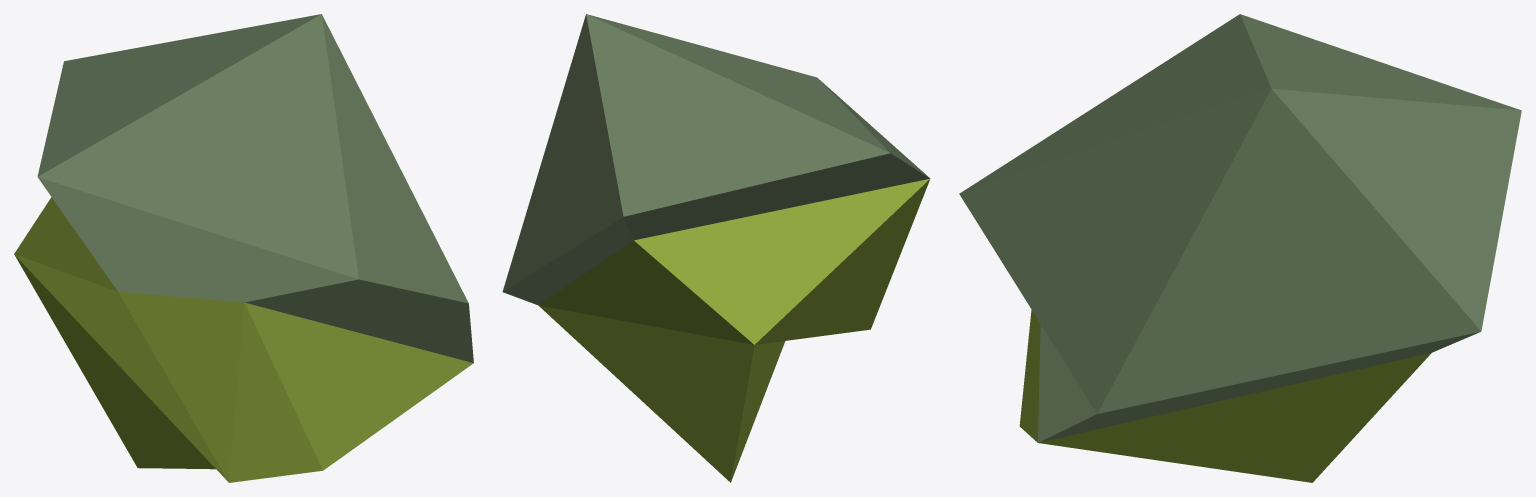
The model's file is Gib_4.fbx.
3 renders of one model, left to right at view 1: azimuth 30°, elevation 25°; view 2: azimuth 150°, elevation 25°; view 3: azimuth 270°, elevation 25°, orthographic. The views are drawn at different scales.
Parts seen in each view (by area): view 1: pPlatonic2; view 2: pPlatonic2; view 3: pPlatonic2.
Boxes of the visible parts, x1,y1,x2,y2 form: pPlatonic2: (14, 14, 473, 482); pPlatonic2: (502, 14, 930, 482); pPlatonic2: (959, 14, 1521, 482).
Size of the model in its own units: 13.59 by 15.03 by 15.74.
